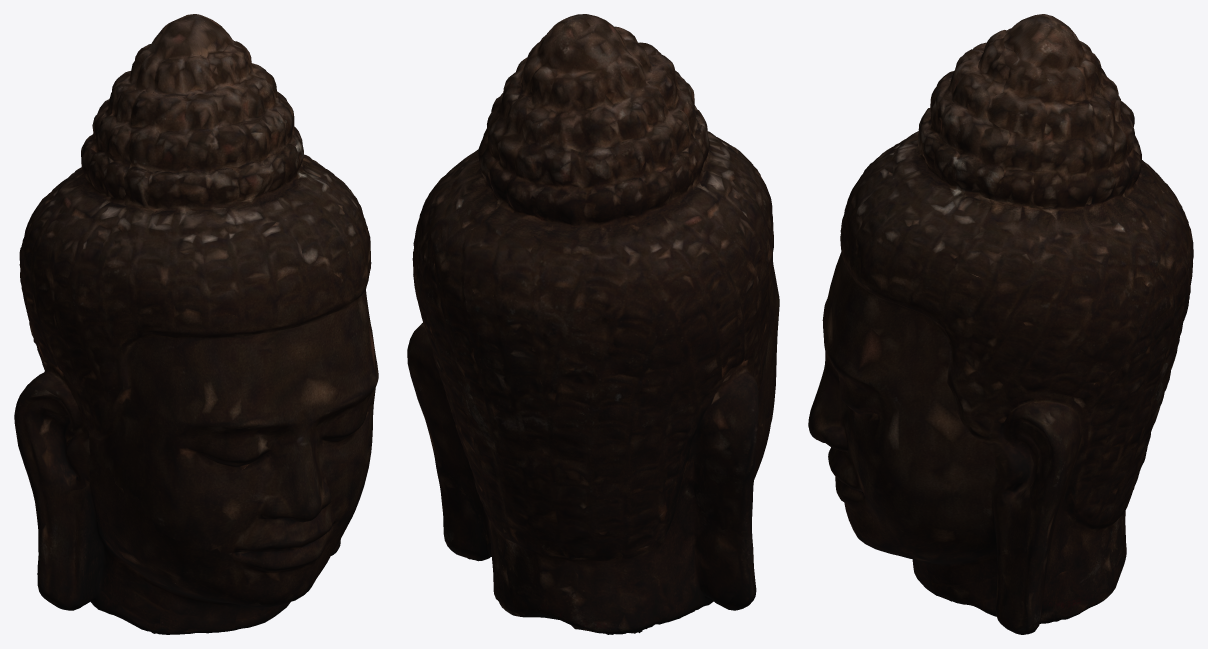
Rendered from head-of-the-buddha.glb.
3 renders of one model, left to right at view 1: azimuth 30°, elevation 25°; view 2: azimuth 150°, elevation 25°; view 3: azimuth 270°, elevation 25°, orthographic. The views are drawn at different scales.
Parts seen in each view (by area): view 1: Object_2; view 2: Object_2; view 3: Object_2.
Part boxes in pixels (x1,y1,x2,y2): Object_2: (14, 14, 378, 634); Object_2: (407, 14, 779, 634); Object_2: (808, 14, 1193, 634).
Size of the model in its own units: 1.5 by 2.47 by 1.51.
Materials: 1 (1 with a texture image).
